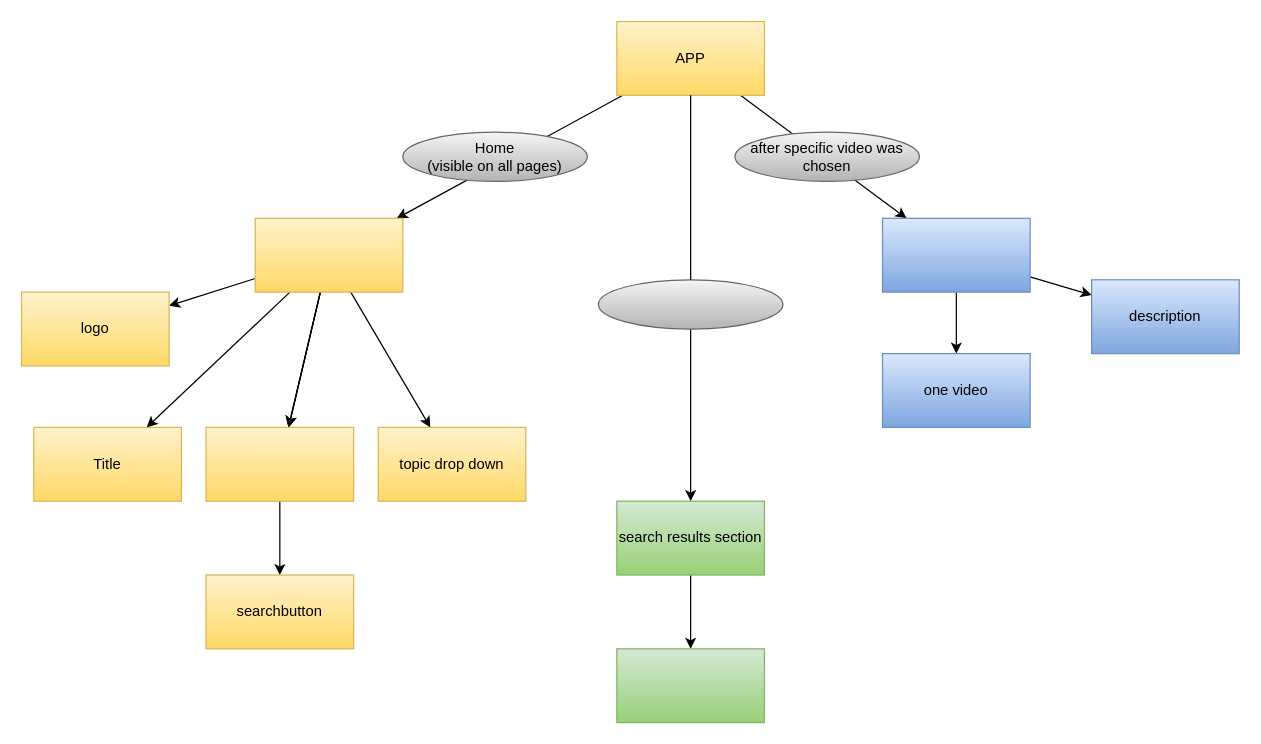
Image size: 1261x744. Some labels were removed from this diagram. Here are the shapes that lost their labels. From the top down, the box of each, then its label:
(254, 217, 403, 292): Header / static section
(881, 217, 1030, 292): detail video
(597, 279, 783, 329): after search
(205, 426, 354, 501): Searchbar
(616, 648, 764, 723): video preview(s)
